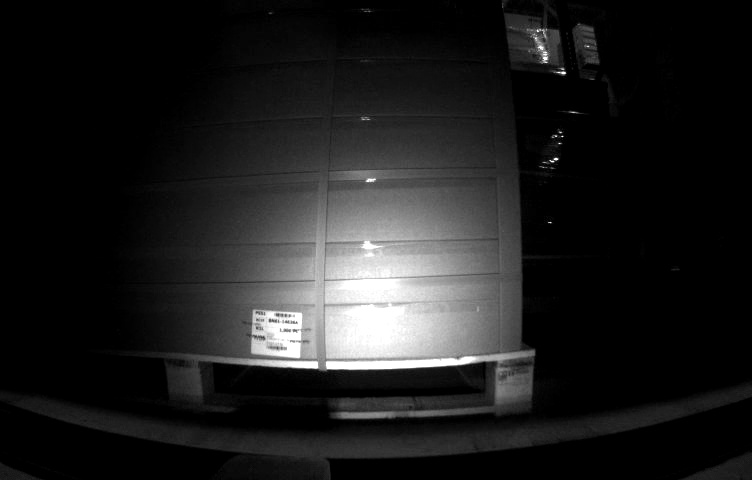True Barcode: (249, 307, 308, 359)
